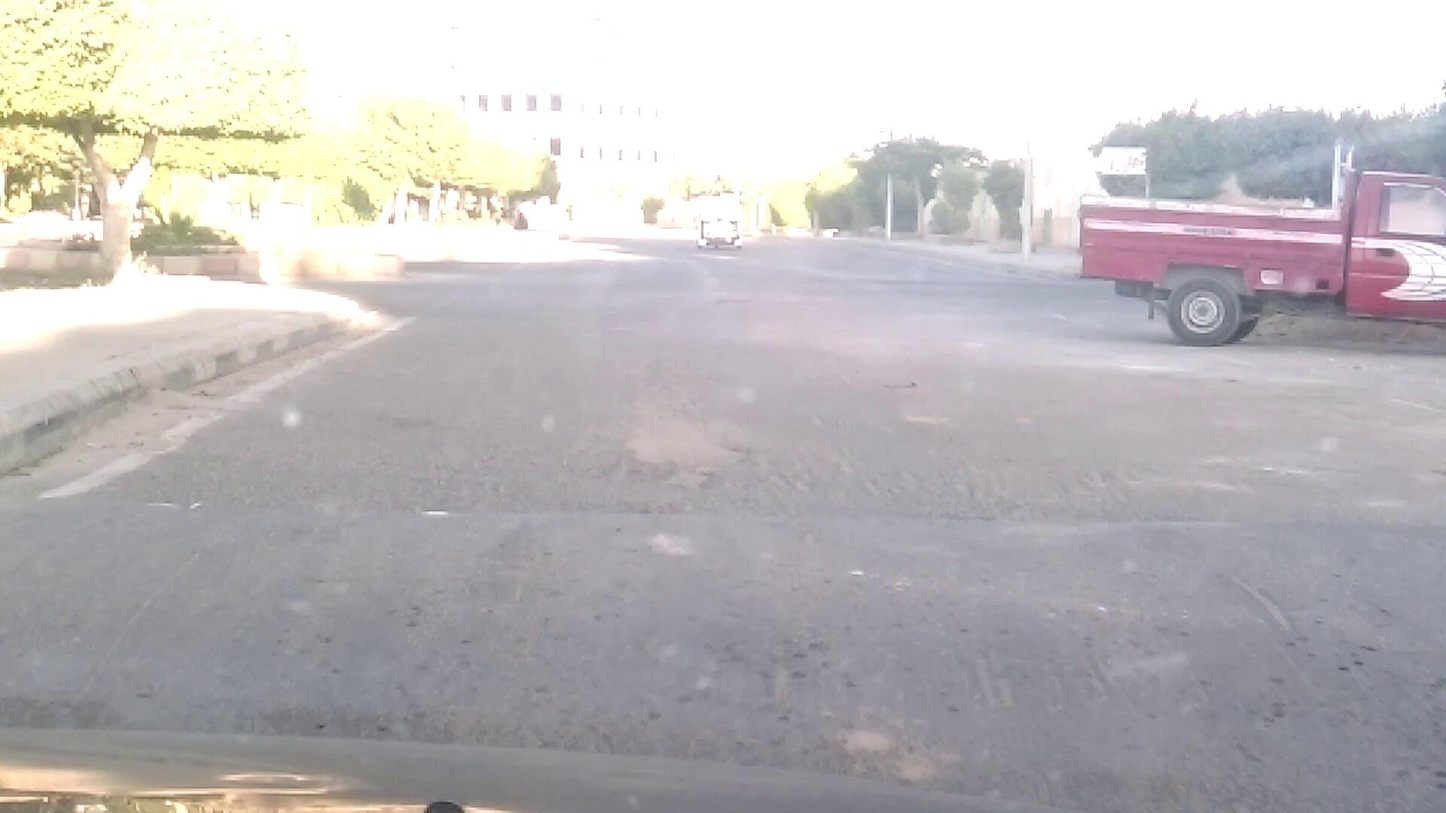Bump: (0, 500, 1445, 812)
